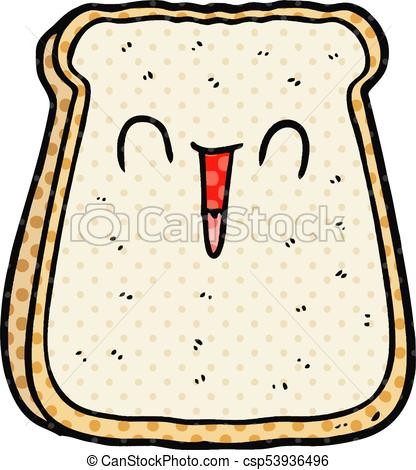slice of bread: (77, 42, 397, 440)
